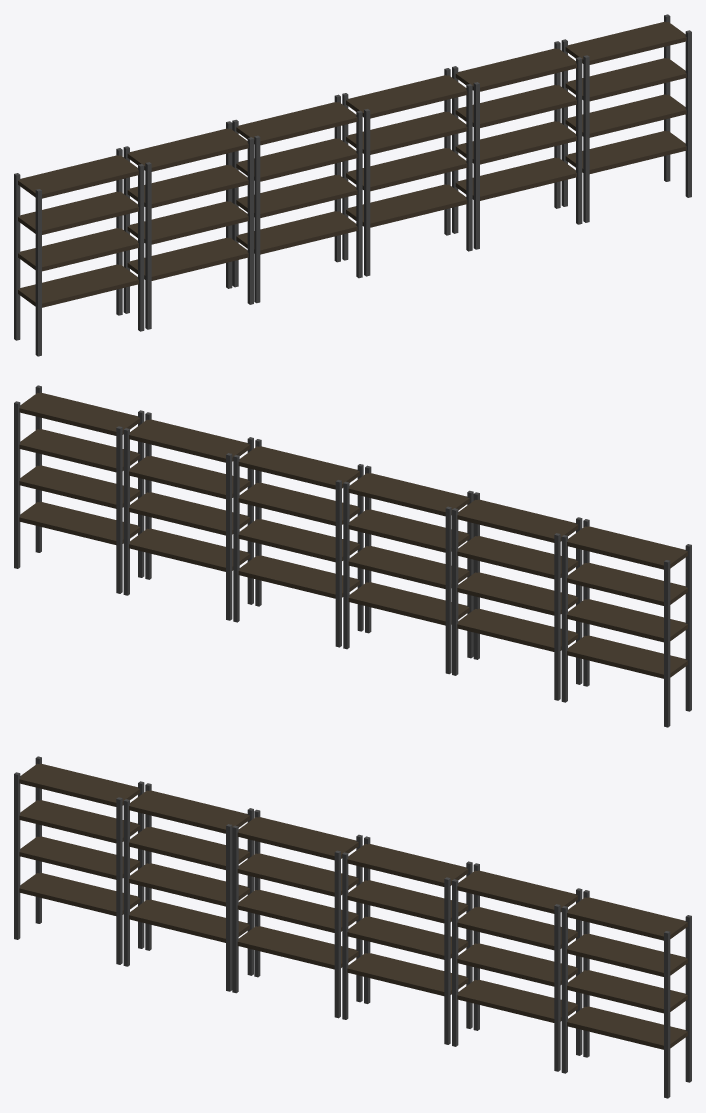
Rendered from Stack of Shelfs.fbx.
The picture shows the model from 3 angles, top to bottom: view 1: azimuth 30°, elevation 25°; view 2: azimuth 150°, elevation 25°; view 3: azimuth 330°, elevation 25°; orthographic projection.
Visible parts, largest first — view 1: pCube41; view 2: pCube41; view 3: pCube41.
Boxes of the visible parts, box(x1,y1,x2,y2) form: pCube41: box(14, 14, 691, 356); pCube41: box(14, 385, 691, 727); pCube41: box(14, 756, 691, 1098).
Bounding box in the file's own units: 1249 × 301 × 79.53.
